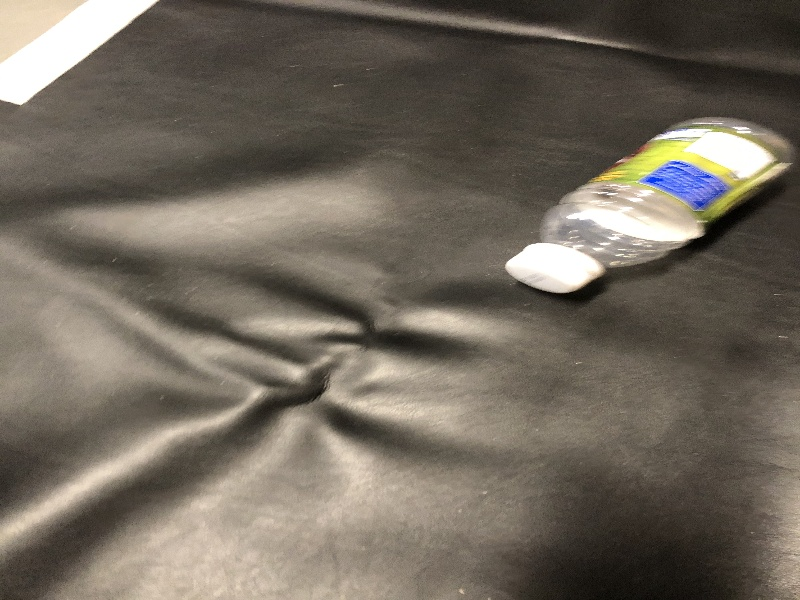plastic: (490, 100, 800, 326)
